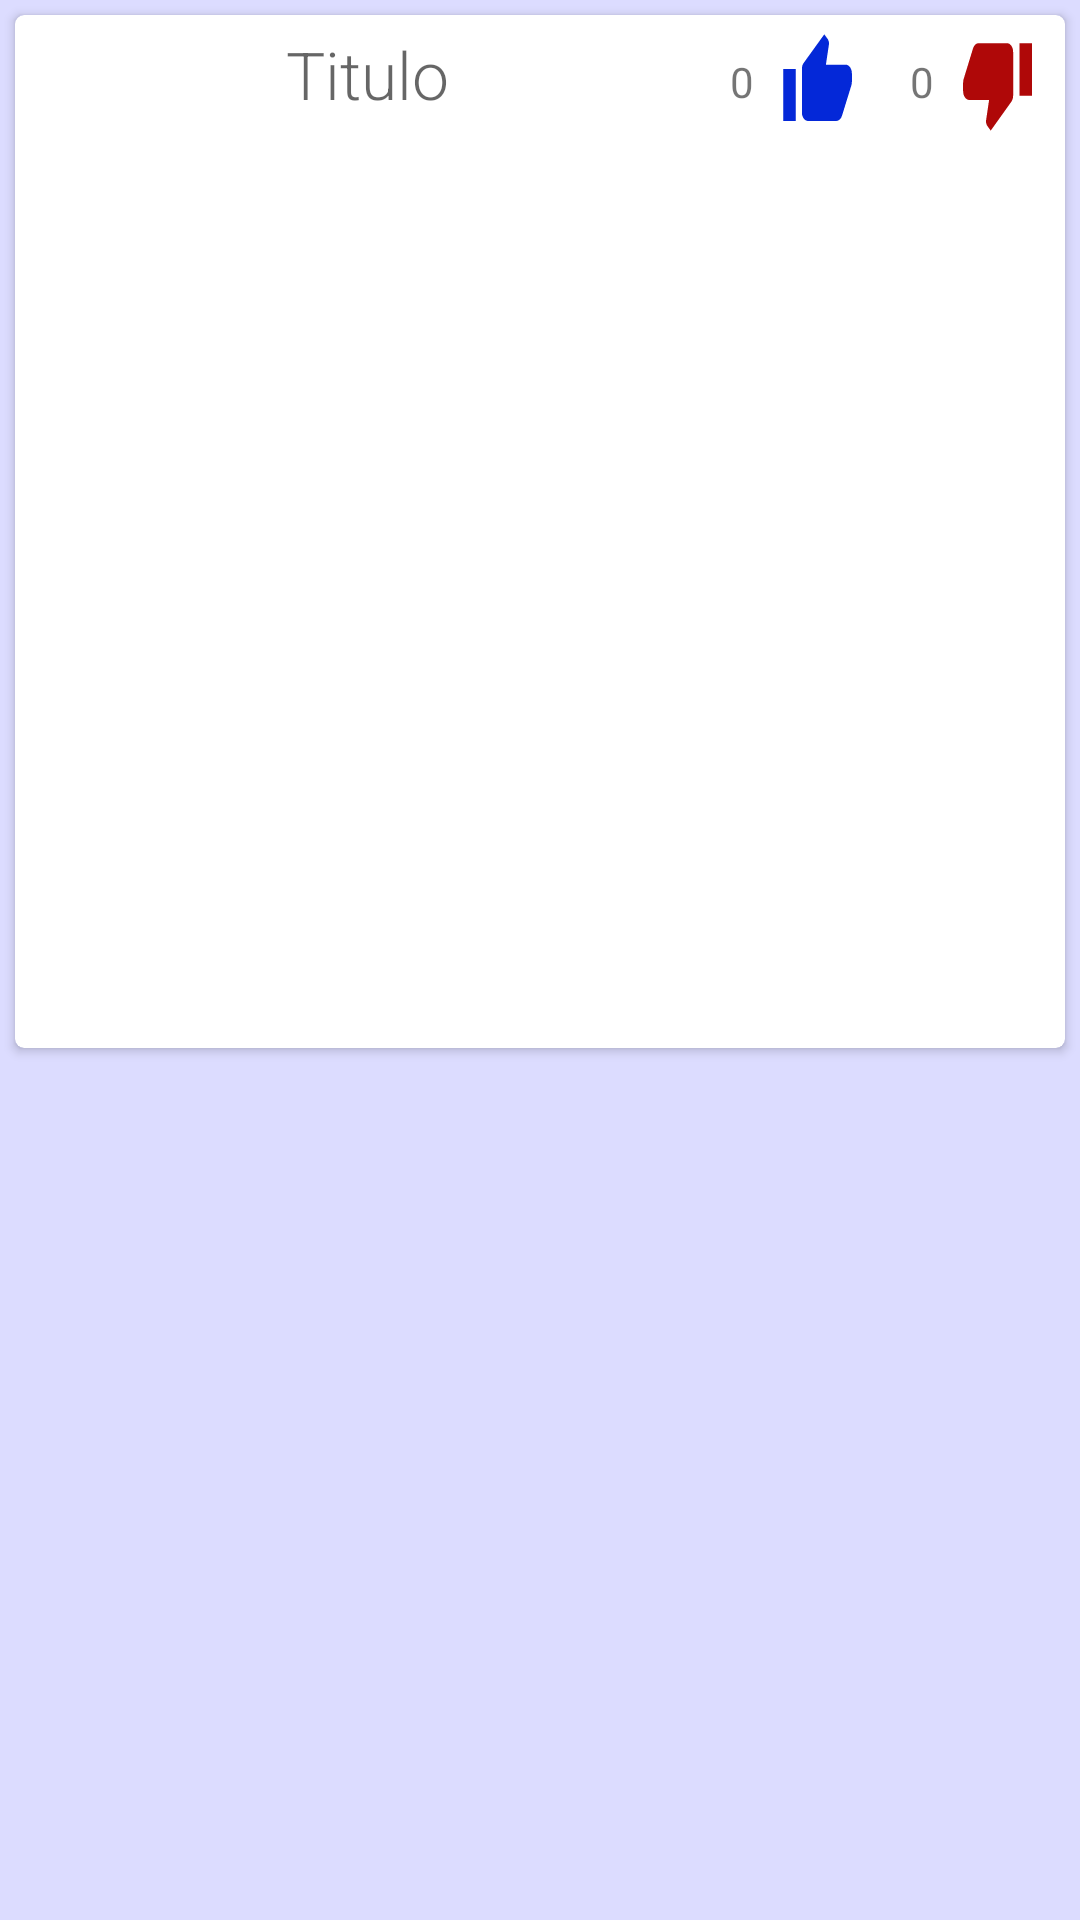

Named icons in this screenshot (1080 x 1920) and their bounding boxes, (x1, y1, x2, y2):
thumb down: (963, 43, 1032, 131)
thumb up: (783, 34, 852, 121)
